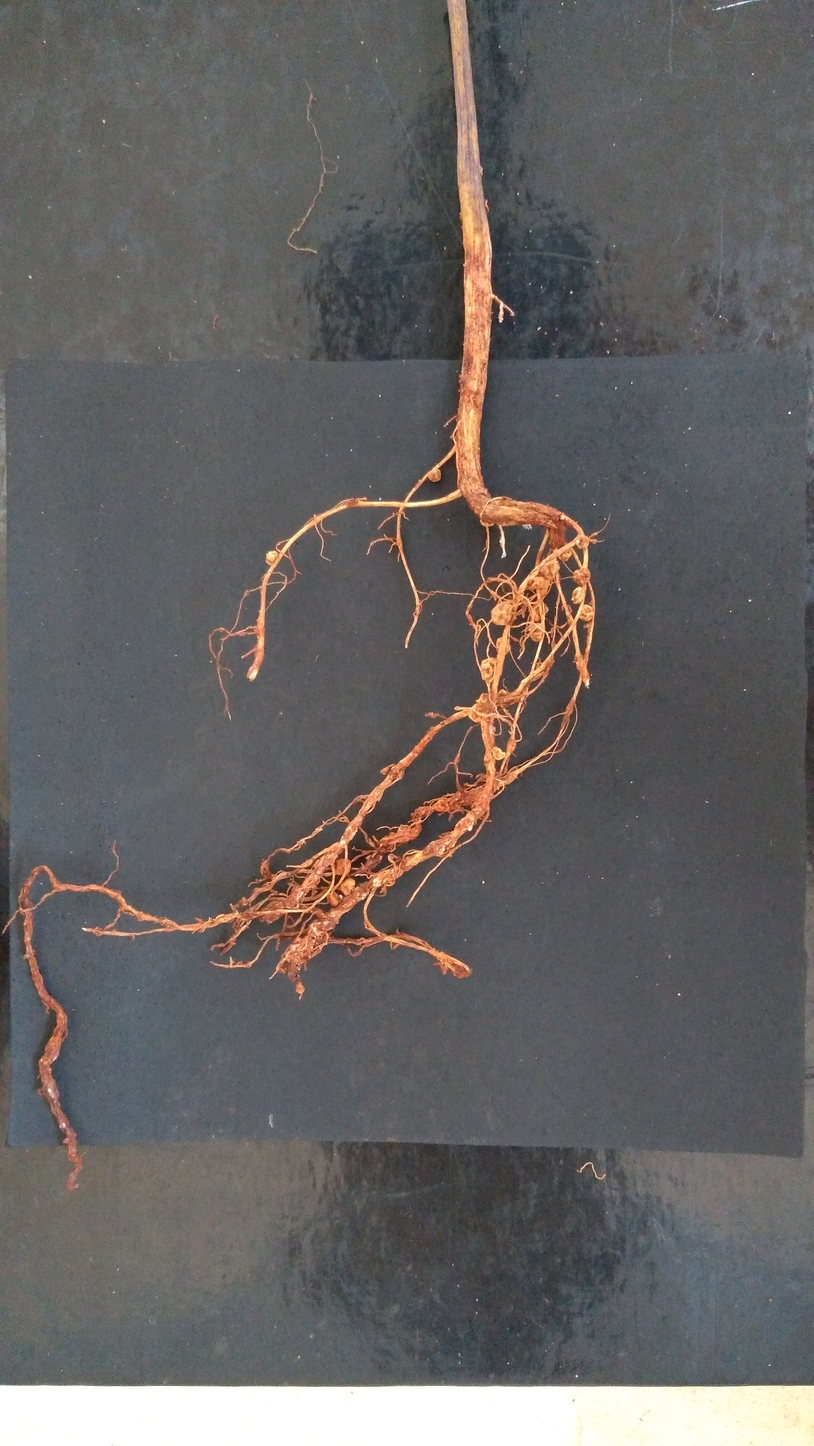nodule: (285, 944, 313, 966), (306, 918, 334, 940), (491, 602, 513, 625), (481, 657, 498, 683), (531, 576, 551, 597), (540, 558, 560, 579), (532, 601, 549, 622), (573, 568, 591, 586), (468, 703, 483, 723), (334, 858, 351, 875), (340, 878, 355, 896), (498, 689, 514, 705), (579, 604, 593, 622), (571, 587, 585, 604), (530, 623, 542, 642), (497, 638, 510, 655), (327, 892, 341, 907), (492, 746, 506, 760), (265, 551, 278, 565), (428, 469, 441, 482), (436, 799, 449, 812), (577, 535, 589, 549), (476, 692, 489, 704), (559, 550, 572, 561), (480, 518, 495, 527), (296, 981, 304, 994), (536, 662, 543, 671)
